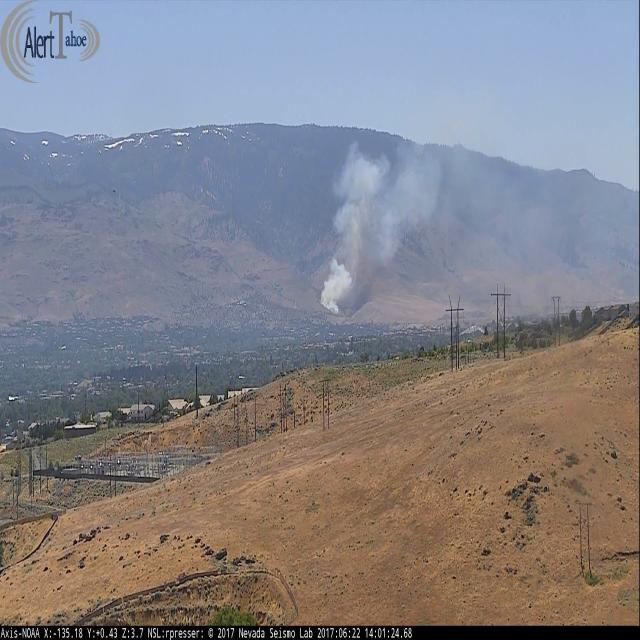smoke: (319, 144, 441, 316)
